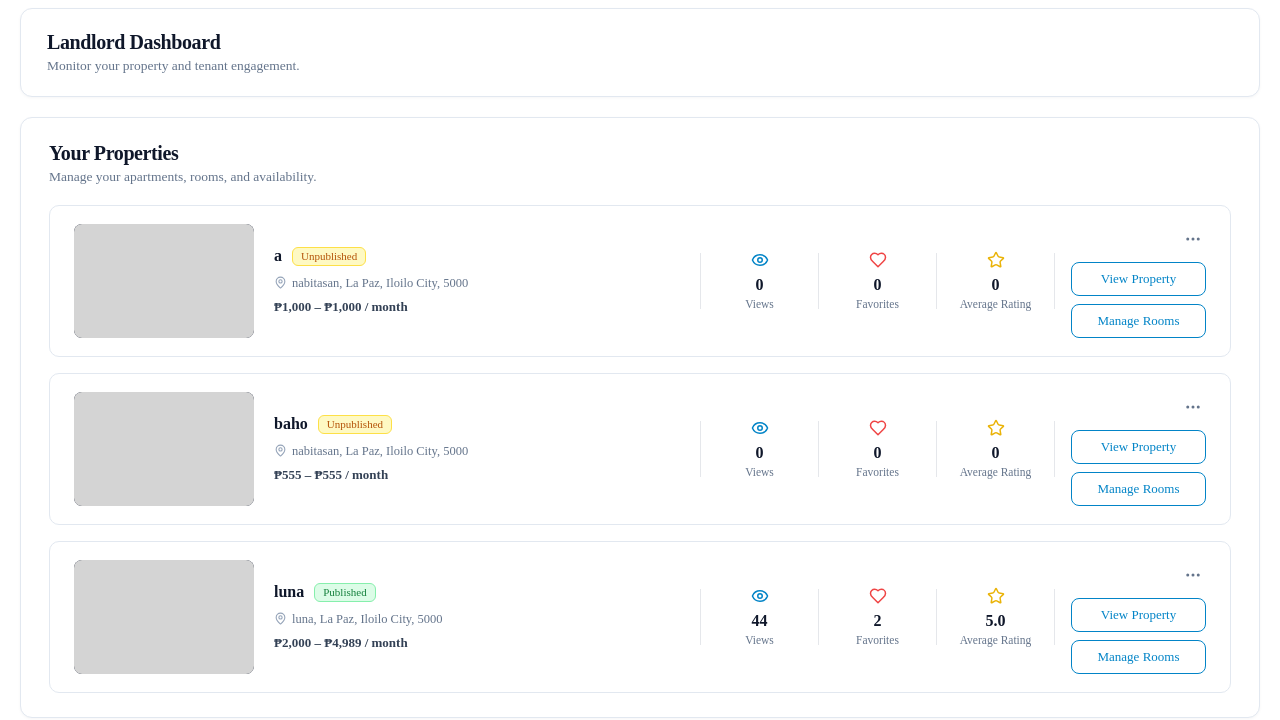
Landlord Your Properties design matching image › shows Unpublish option for an already published property
# Click more options for the third property ("luna", published)
Click the 3rd button named "More options".
click(1193, 575)  # box [1180,562,1206,588]
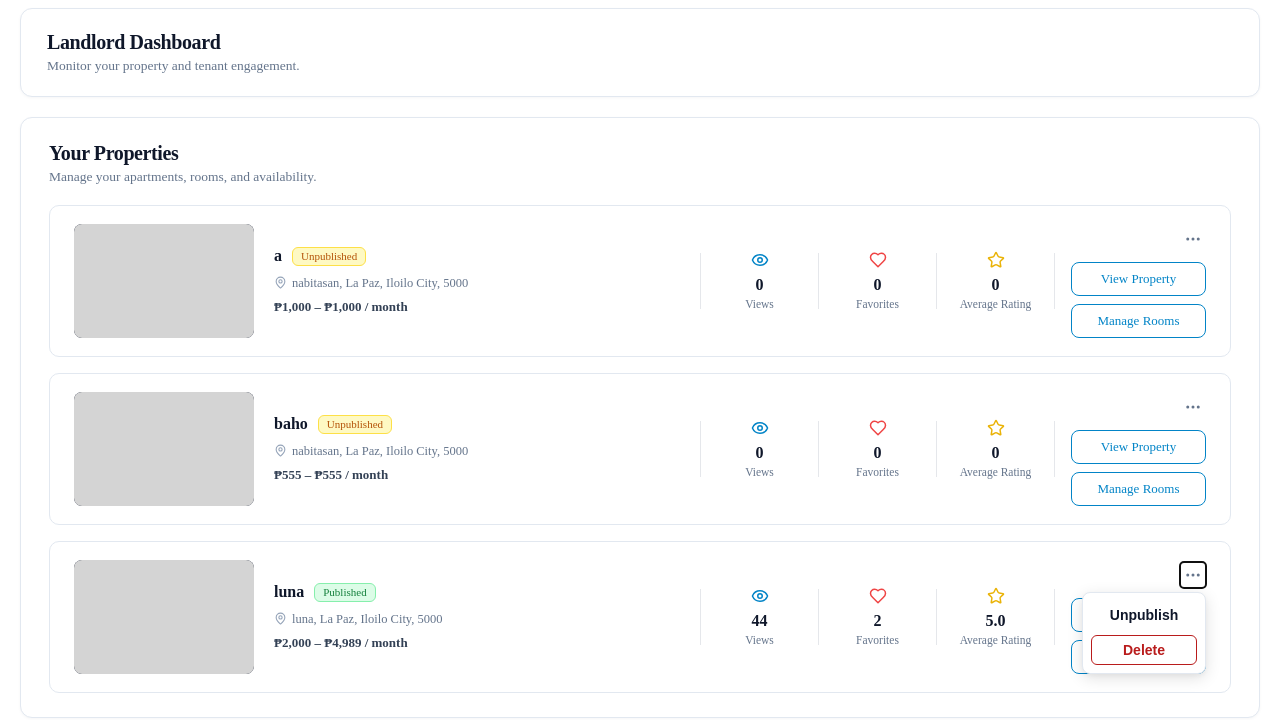
Now the menu item "Unpublish" is shown, box [1091,601,1197,629]
